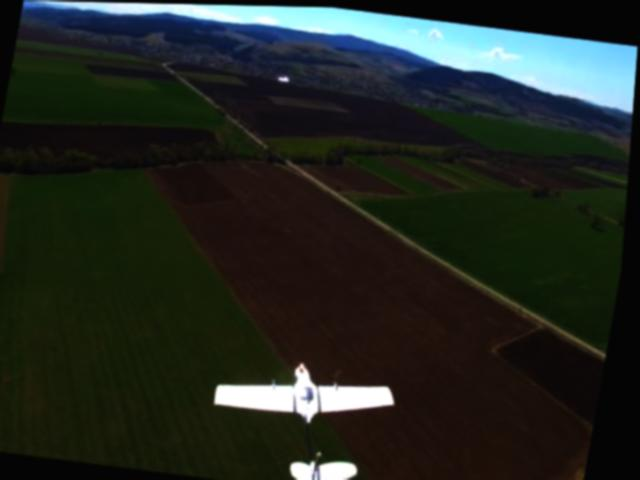uav: (202, 342, 422, 480)
